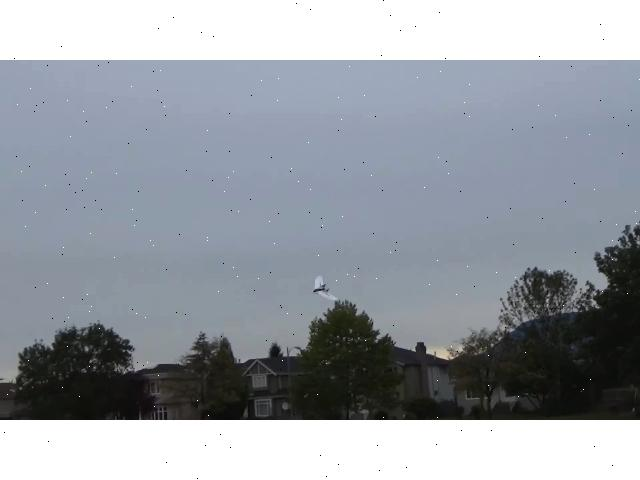Anti-Drone: (312, 275, 340, 301)
